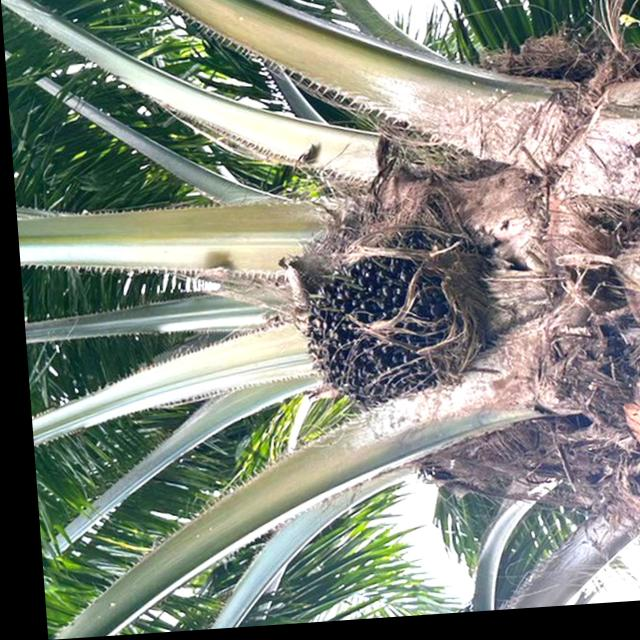unripe: (284, 225, 492, 417)
